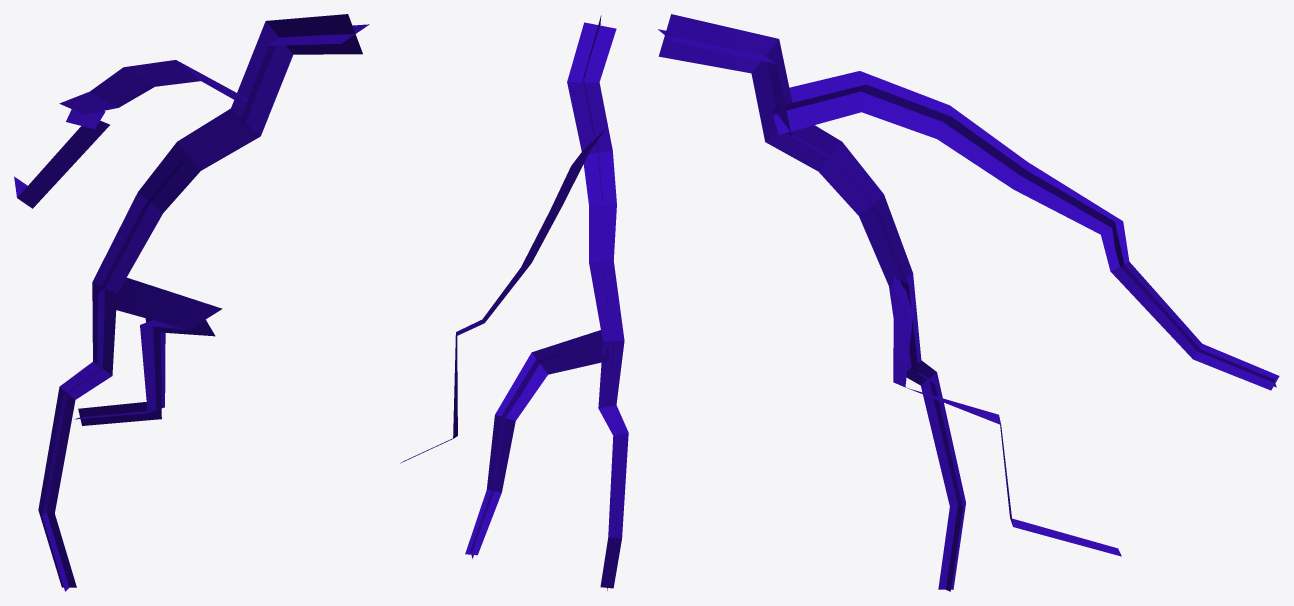
File: SM_EFF_Lightning_E_01.mo.fbx
3 views of the same model, side by side, from view 1: azimuth 30°, elevation 25°; view 2: azimuth 150°, elevation 25°; view 3: azimuth 270°, elevation 25° (orthographic). The views are drawn at different scales.
Parts seen in each view (by area): view 1: SM_EFF_Lightning_E_01.mo; view 2: SM_EFF_Lightning_E_01.mo; view 3: SM_EFF_Lightning_E_01.mo.
Part boxes in pixels (x1=…): SM_EFF_Lightning_E_01.mo: x1=14, y1=14, x2=369, y2=591; SM_EFF_Lightning_E_01.mo: x1=400, y1=15, x2=628, y2=590; SM_EFF_Lightning_E_01.mo: x1=658, y1=14, x2=1279, y2=591.
Bounding box in the file's own units: 0.7342 × 2.37 × 2.06.
